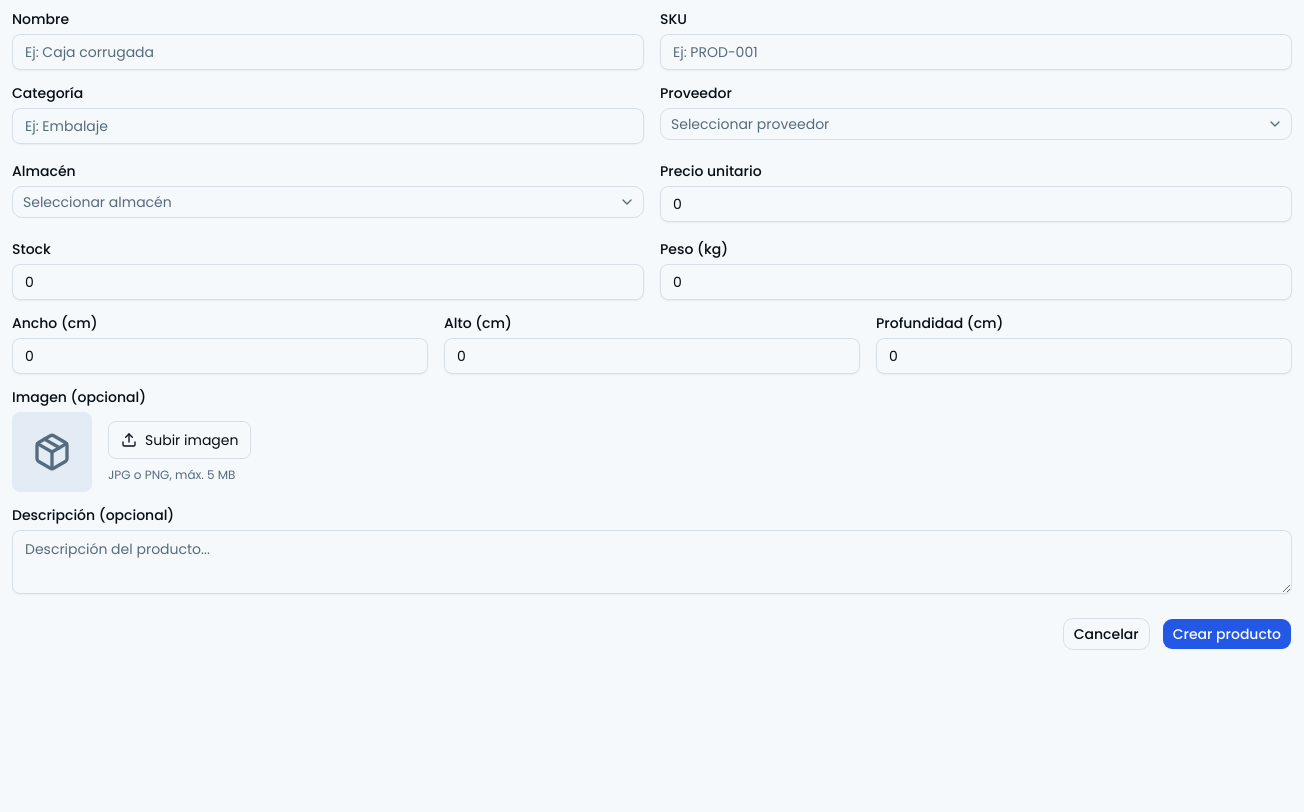
Test: ProductForm — validación › muestra errores en campos de texto vacíos al enviar
Click the button "Crear producto": (1227, 634) [1162,618,1292,650]
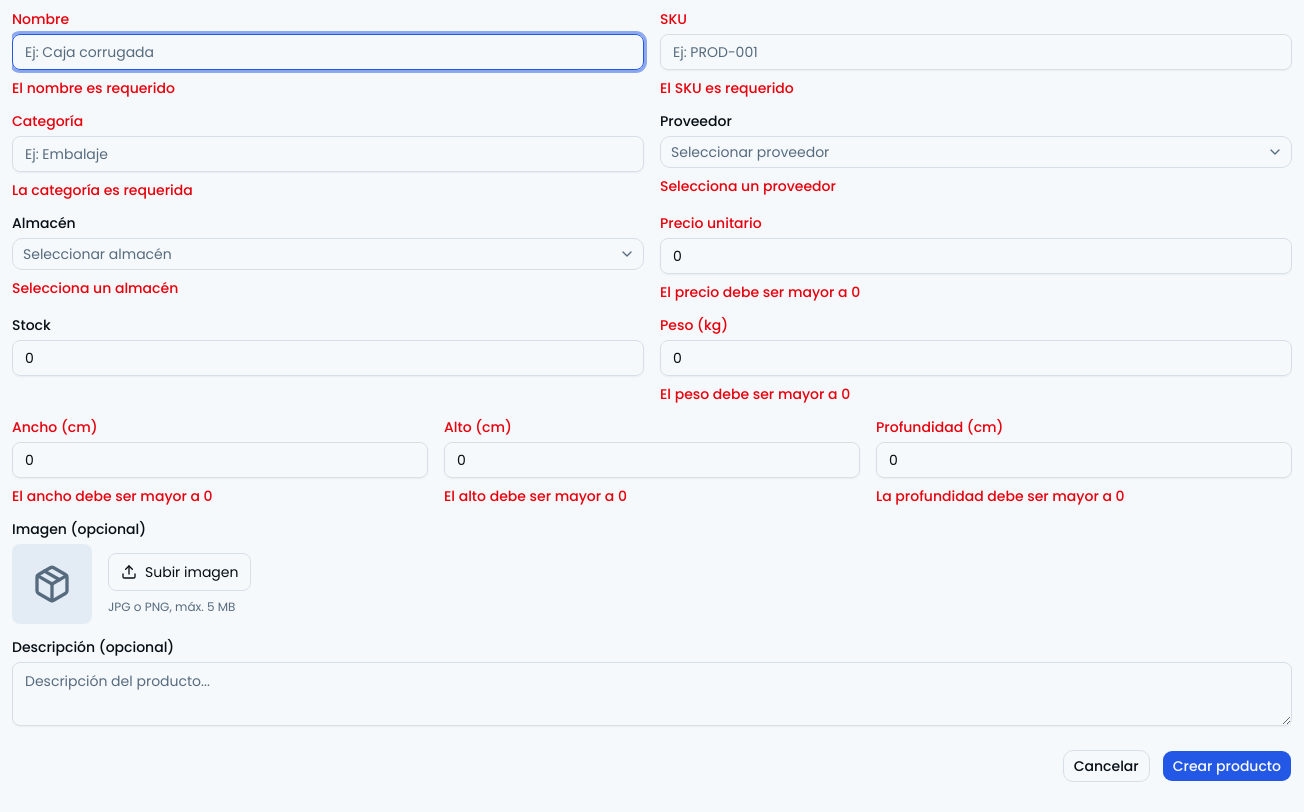
Check: the text "El nombre es requerido" is shown, box [12,78,175,98]
Check: the text "El SKU es requerido" is shown, box [660,78,794,98]
Check: the text "La categoría es requerida" is shown, box [12,180,193,200]
